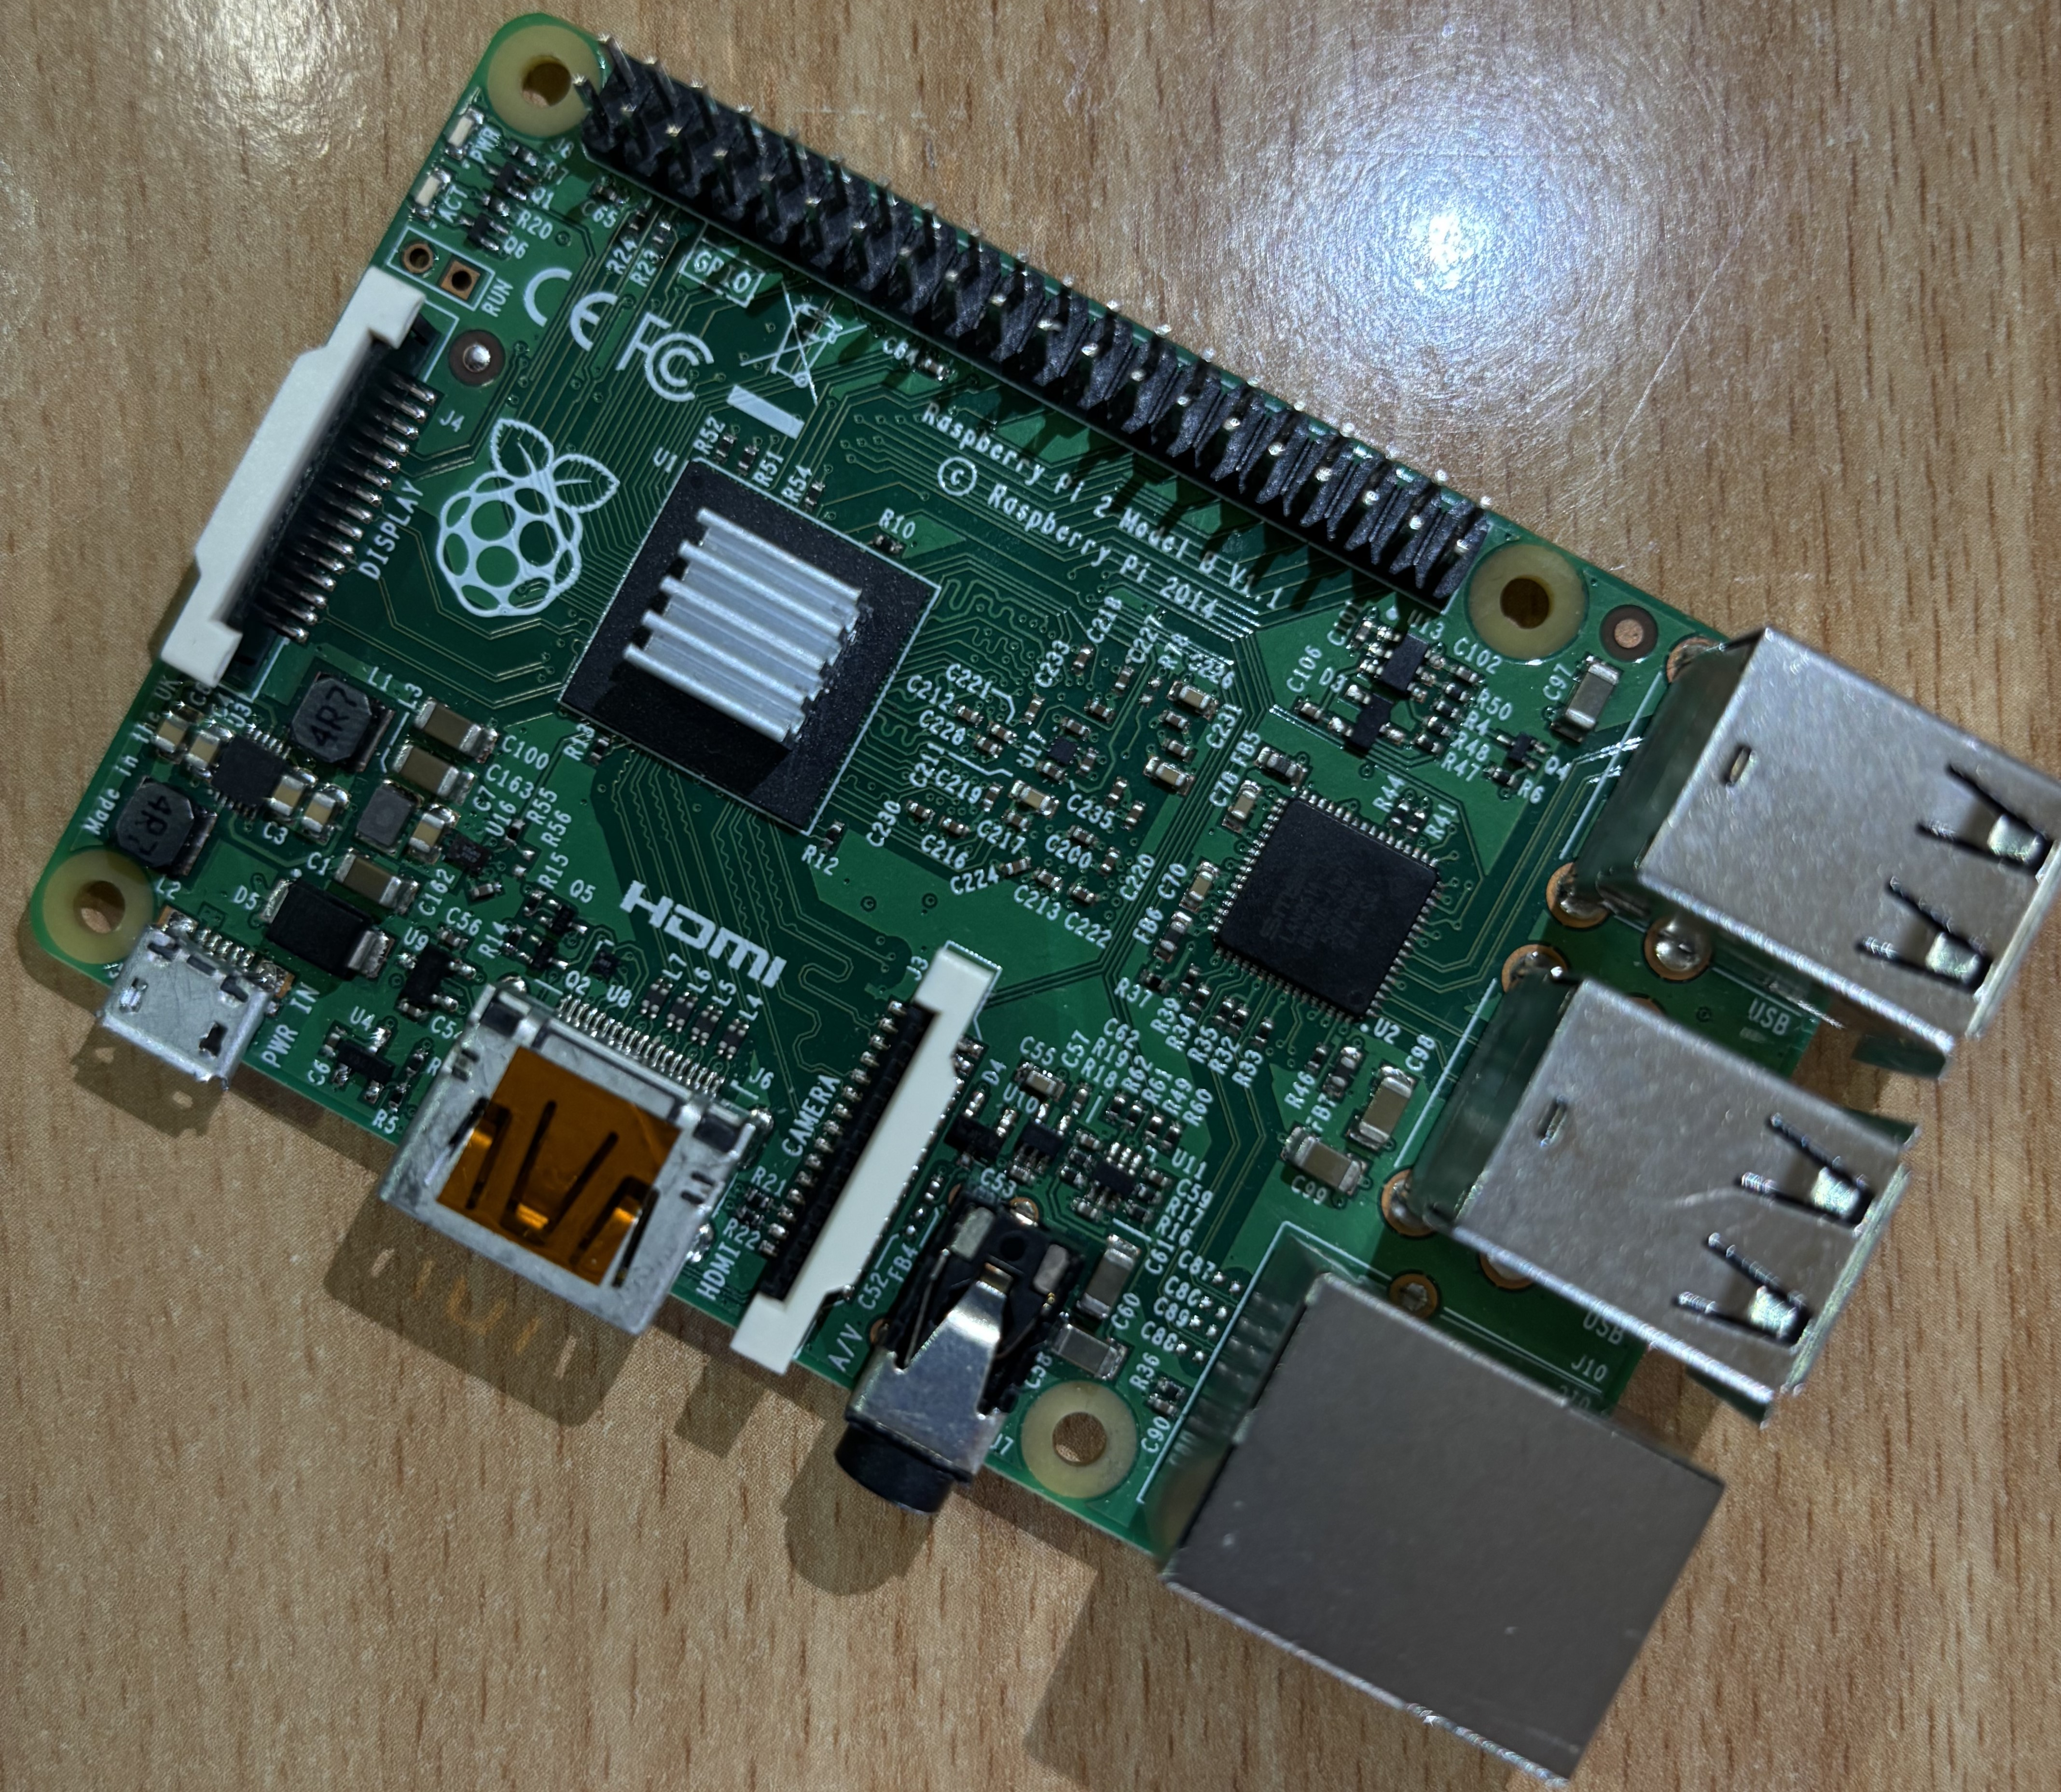Induktor: (289, 673, 375, 777), (117, 780, 198, 864), (351, 782, 417, 849), (689, 998, 722, 1050), (715, 1017, 748, 1063), (640, 973, 671, 1019), (662, 989, 694, 1035)
